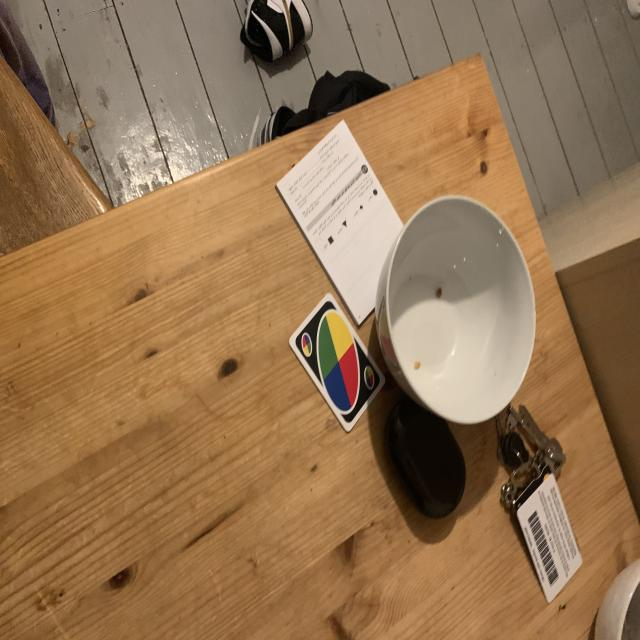lcolor-40: (299, 331, 314, 360)
